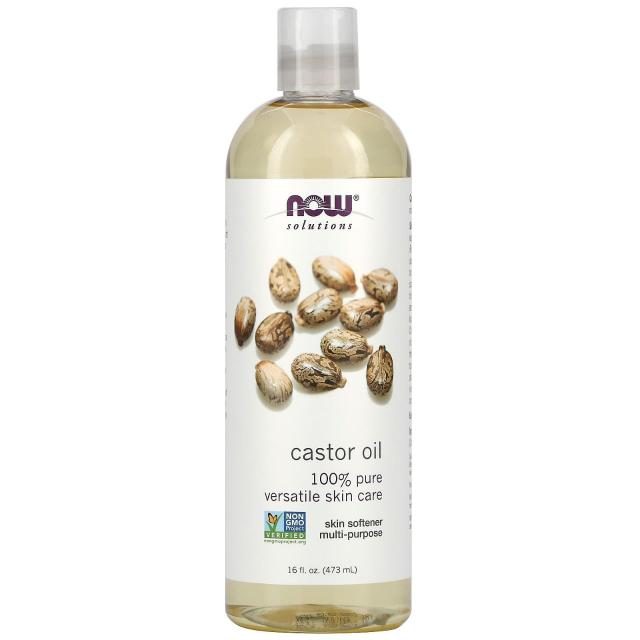cosmotic: (232, 183, 408, 577)
